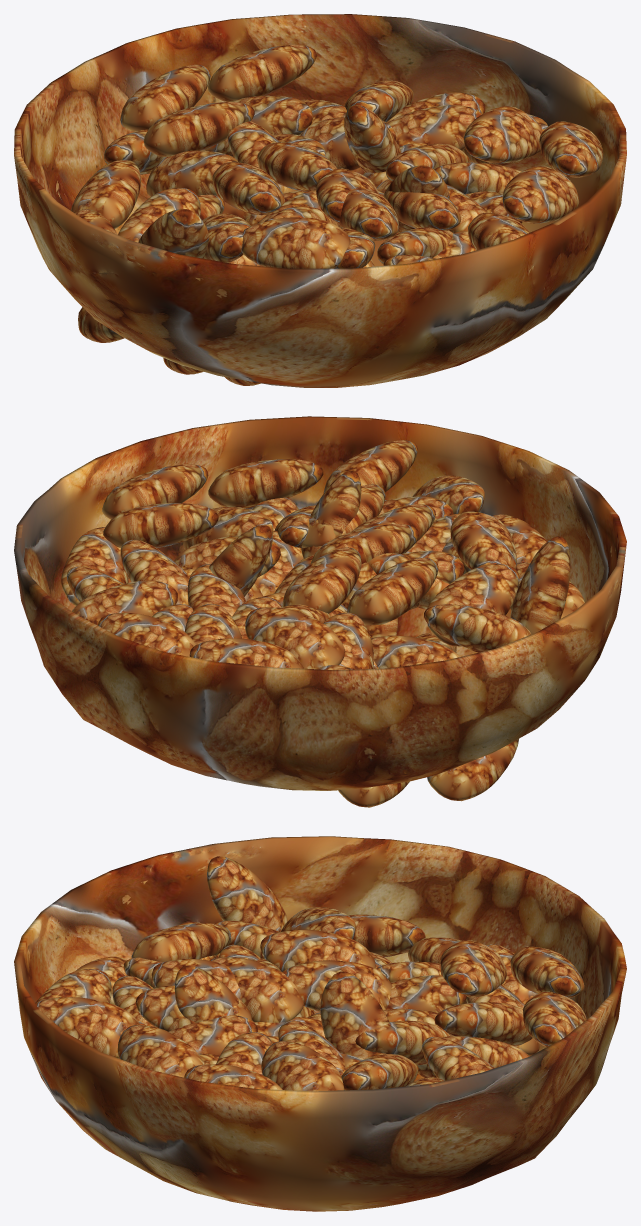
Rendered from CASTANHAS.fbx.
3 views of the same model, one above another, from view 1: azimuth 30°, elevation 25°; view 2: azimuth 150°, elevation 25°; view 3: azimuth 270°, elevation 25° (orthographic).
Visible parts, largest first — view 1: Object_15.001, Almond24_aiStandardSurface5_0.030, Almond24_aiStandardSurface5_0.017, Almond24_aiStandardSurface5_0.015, Almond24_aiStandardSurface5_0.042, Almond24_aiStandardSurface5_0.018, Almond24_aiStandardSurface5_0.044, Almond24_aiStandardSurface5_0.008, Almond24_aiStandardSurface5_0.040, Almond24_aiStandardSurface5_0.024, Almond24_aiStandardSurface5_0.045, Almond24_aiStandardSurface5_0.007 (+27 smaller); view 2: Object_15.001, Almond24_aiStandardSurface5_0.044, Almond24_aiStandardSurface5_0.021, Almond24_aiStandardSurface5_0.015, Almond24_aiStandardSurface5_0.042, Almond24_aiStandardSurface5_0.024, Almond24_aiStandardSurface5_0.022, Almond24_aiStandardSurface5_0.027, Almond24_aiStandardSurface5_0.045, Almond24_aiStandardSurface5_0.019, Almond24_aiStandardSurface5_0.030, Almond24_aiStandardSurface5_0.016 (+32 smaller); view 3: Object_15.001, Almond24_aiStandardSurface5_0.039, Almond24_aiStandardSurface5_0.021, Almond24_aiStandardSurface5_0.035, Almond24_aiStandardSurface5_0.033, Almond24_aiStandardSurface5_0.024, Almond24_aiStandardSurface5_0.042, Almond24_aiStandardSurface5_0.014, Almond24_aiStandardSurface5_0.044, Almond24_aiStandardSurface5_0.015, Almond24_aiStandardSurface5_0.030, Almond24_aiStandardSurface5_0.027 (+27 smaller).
Part boxes in pixels (x1=…): Object_15.001: x1=14, y1=14, x2=626, y2=387; Almond24_aiStandardSurface5_0.030: x1=241, y1=217, x2=350, y2=268; Almond24_aiStandardSurface5_0.017: x1=208, y1=45, x2=316, y2=101; Almond24_aiStandardSurface5_0.015: x1=143, y1=102, x2=254, y2=156; Almond24_aiStandardSurface5_0.042: x1=464, y1=106, x2=542, y2=163; Almond24_aiStandardSurface5_0.018: x1=120, y1=64, x2=210, y2=131; Almond24_aiStandardSurface5_0.044: x1=502, y1=166, x2=579, y2=223; Almond24_aiStandardSurface5_0.008: x1=71, y1=160, x2=140, y2=228; Almond24_aiStandardSurface5_0.040: x1=387, y1=105, x2=481, y2=150; Almond24_aiStandardSurface5_0.024: x1=212, y1=162, x2=284, y2=215; Almond24_aiStandardSurface5_0.045: x1=539, y1=121, x2=603, y2=177; Almond24_aiStandardSurface5_0.007: x1=146, y1=150, x2=238, y2=196; Object_15.001: x1=14, y1=416, x2=626, y2=790; Almond24_aiStandardSurface5_0.044: x1=208, y1=459, x2=323, y2=508; Almond24_aiStandardSurface5_0.021: x1=510, y1=536, x2=570, y2=634; Almond24_aiStandardSurface5_0.015: x1=245, y1=607, x2=344, y2=668; Almond24_aiStandardSurface5_0.042: x1=103, y1=503, x2=218, y2=548; Almond24_aiStandardSurface5_0.024: x1=347, y1=557, x2=438, y2=625; Almond24_aiStandardSurface5_0.022: x1=424, y1=604, x2=530, y2=652; Almond24_aiStandardSurface5_0.027: x1=282, y1=547, x2=361, y2=613; Almond24_aiStandardSurface5_0.045: x1=102, y1=464, x2=208, y2=519; Almond24_aiStandardSurface5_0.019: x1=427, y1=564, x2=519, y2=646; Almond24_aiStandardSurface5_0.030: x1=450, y1=511, x2=516, y2=569; Almond24_aiStandardSurface5_0.016: x1=72, y1=580, x2=177, y2=625; Object_15.001: x1=14, y1=836, x2=626, y2=1211; Almond24_aiStandardSurface5_0.039: x1=320, y1=971, x2=389, y2=1059; Almond24_aiStandardSurface5_0.021: x1=207, y1=856, x2=287, y2=931; Almond24_aiStandardSurface5_0.035: x1=35, y1=997, x2=140, y2=1058; Almond24_aiStandardSurface5_0.033: x1=209, y1=957, x2=304, y2=1022; Almond24_aiStandardSurface5_0.024: x1=260, y1=929, x2=375, y2=971; Almond24_aiStandardSurface5_0.042: x1=261, y1=1041, x2=343, y2=1091; Almond24_aiStandardSurface5_0.014: x1=434, y1=1002, x2=532, y2=1045; Almond24_aiStandardSurface5_0.044: x1=117, y1=1025, x2=203, y2=1077; Almond24_aiStandardSurface5_0.015: x1=440, y1=940, x2=506, y2=997; Almond24_aiStandardSurface5_0.030: x1=131, y1=923, x2=230, y2=961; Almond24_aiStandardSurface5_0.027: x1=282, y1=960, x2=391, y2=1011.
Size of the model in its own units: 35.77 by 14.47 by 35.85.
2 materials, 2 textured.
